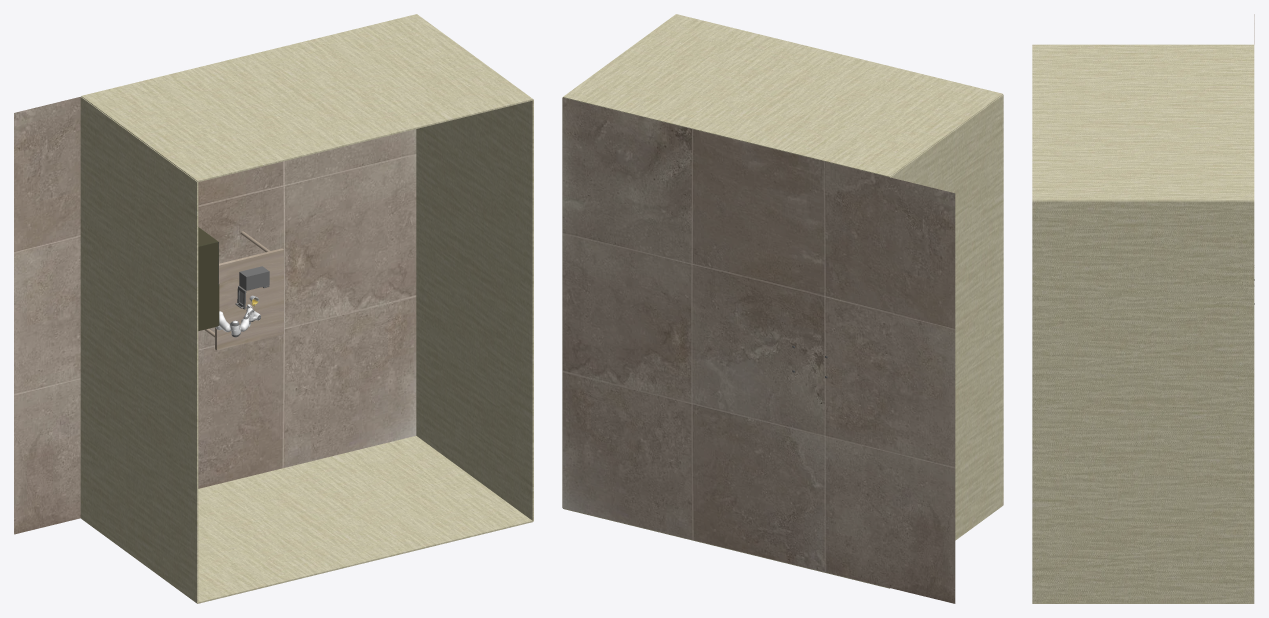
The picture shows the model from 3 angles, left to right: view 1: azimuth 30°, elevation 25°; view 2: azimuth 150°, elevation 25°; view 3: azimuth 270°, elevation 25°; orthographic projection. The views are drawn at different scales.
Visible parts, largest first — view 1: floor__g0, wall_rear_visual__g8, wall_front_visual__g9, wall_left_visual__g6, wall_right_visual__g7, table_visual__g11, geom_5__g5; view 2: floor__g0, wall_left_visual__g6, wall_rear_visual__g8; view 3: wall_front_visual__g9, wall_left_visual__g6.
Boxes of the visible parts, x1,y1,x2,y2 form: floor__g0: [14, 97, 416, 534]; wall_rear_visual__g8: [80, 96, 198, 603]; wall_front_visual__g9: [416, 99, 533, 521]; wall_left_visual__g6: [81, 14, 533, 181]; wall_right_visual__g7: [197, 436, 533, 603]; table_visual__g11: [215, 248, 283, 350]; geom_5__g5: [198, 227, 219, 330]; floor__g0: [562, 97, 955, 603]; wall_left_visual__g6: [563, 14, 1002, 177]; wall_rear_visual__g8: [890, 94, 1003, 540]; wall_front_visual__g9: [1032, 201, 1254, 603]; wall_left_visual__g6: [1032, 44, 1254, 201].
Size of the model in its own units: 6.01 by 6.02 by 3.01.
21 materials, 10 textured.
